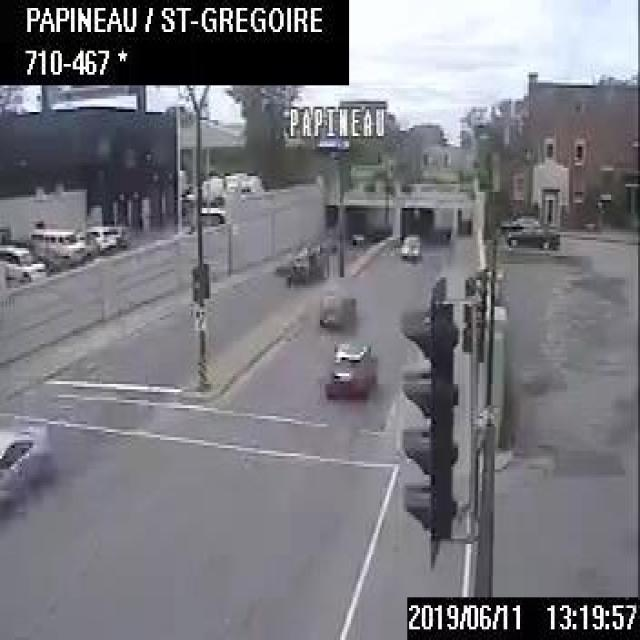vehicle: (0, 418, 53, 506), (324, 336, 374, 395), (28, 222, 87, 265), (0, 244, 47, 286), (288, 237, 328, 280), (506, 220, 558, 248), (318, 293, 355, 328), (86, 221, 120, 252), (398, 232, 420, 259)
